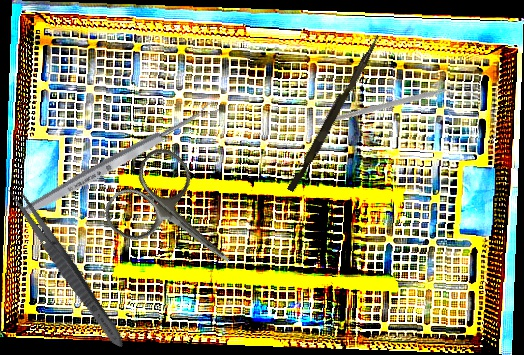Chopper: (316, 28, 475, 188)
Dressing Forceps: (3, 183, 130, 352)
Iris Scissors: (96, 139, 260, 301)
Pusher: (286, 31, 382, 195)
Surgical Spoon: (20, 99, 221, 219)
